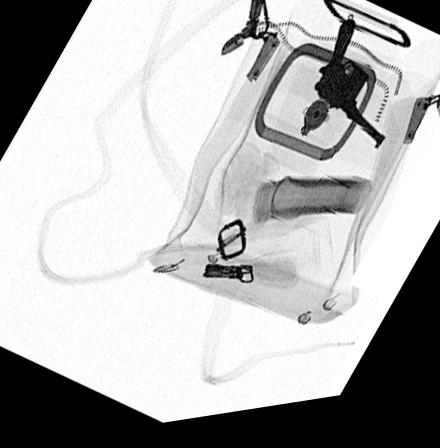Gun: (313, 28, 388, 159)
